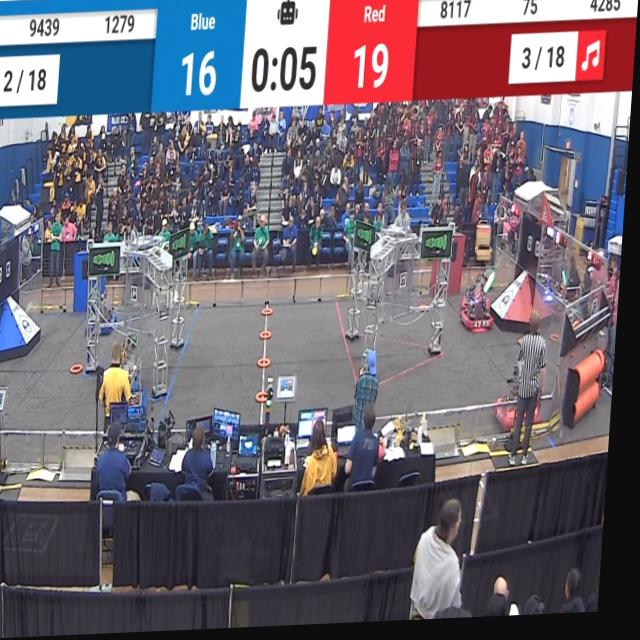Robot: (496, 330, 554, 437), (463, 271, 502, 342), (462, 251, 501, 318), (99, 280, 144, 336), (132, 370, 165, 422), (135, 339, 157, 403)
